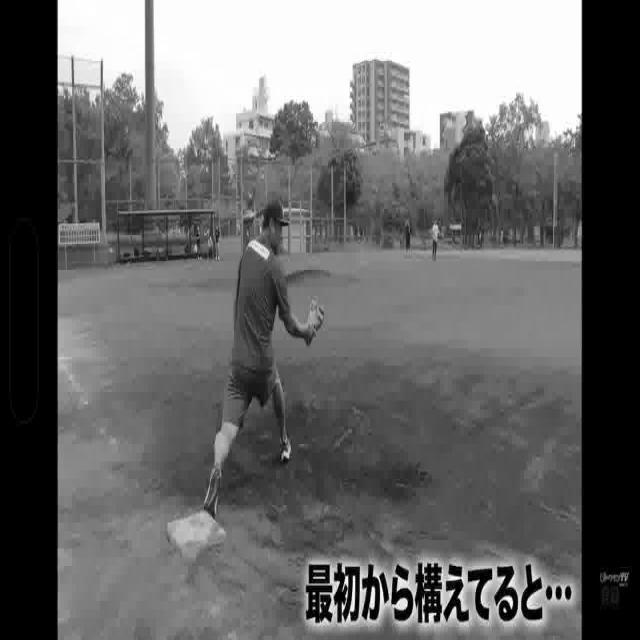base: (164, 511, 226, 559)
baseball_glove: (304, 299, 327, 348)
shoe: (201, 468, 221, 517), (275, 433, 294, 474)
